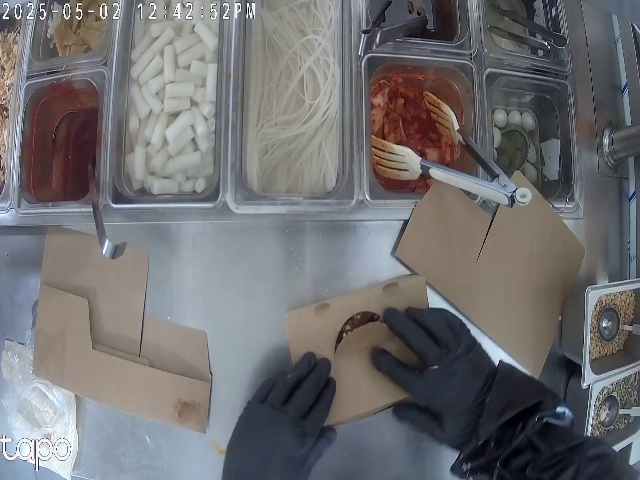closed delivery box: (285, 289, 426, 409)
hand: (228, 365, 354, 480), (392, 297, 487, 434)
